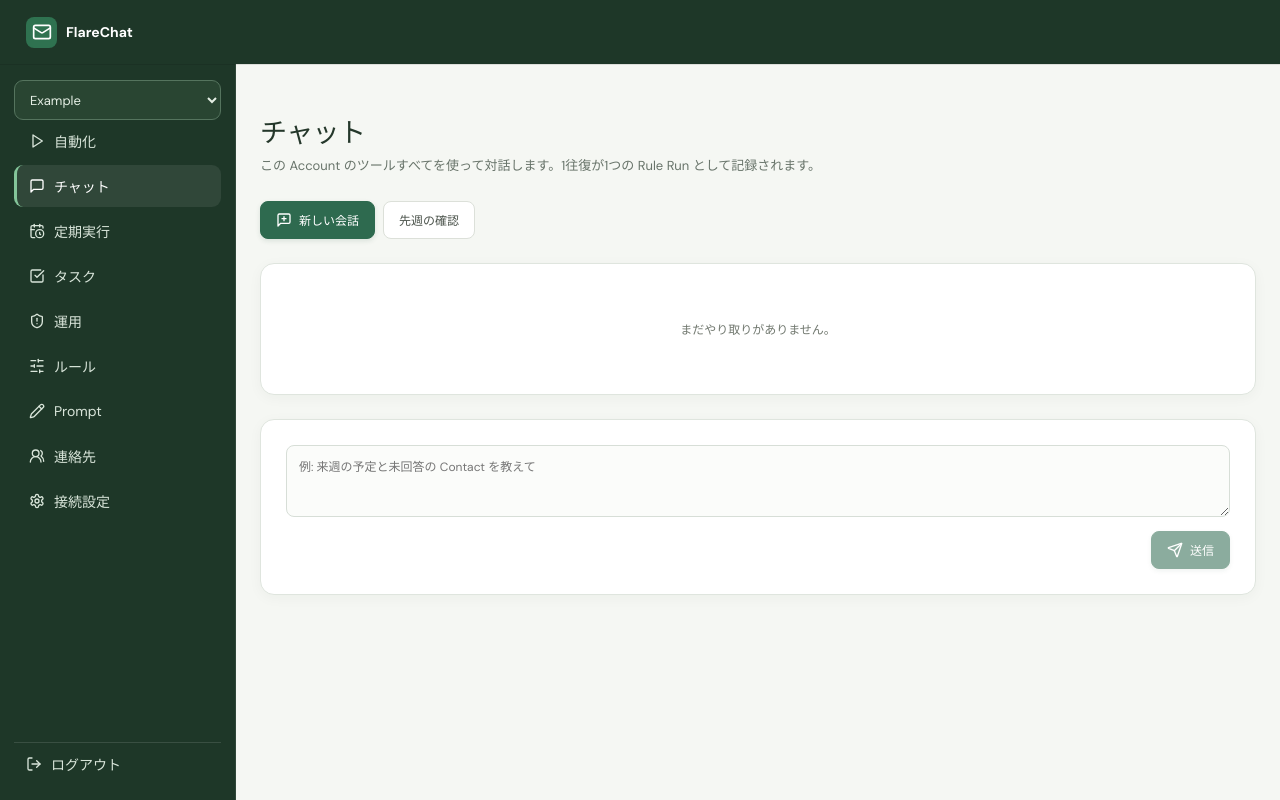
Scenario: Chat screen › opens an earlier conversation and continues it
Step 1. Click the button "先週の確認" → (429, 220), box x1=383 y1=200 x2=475 y2=238
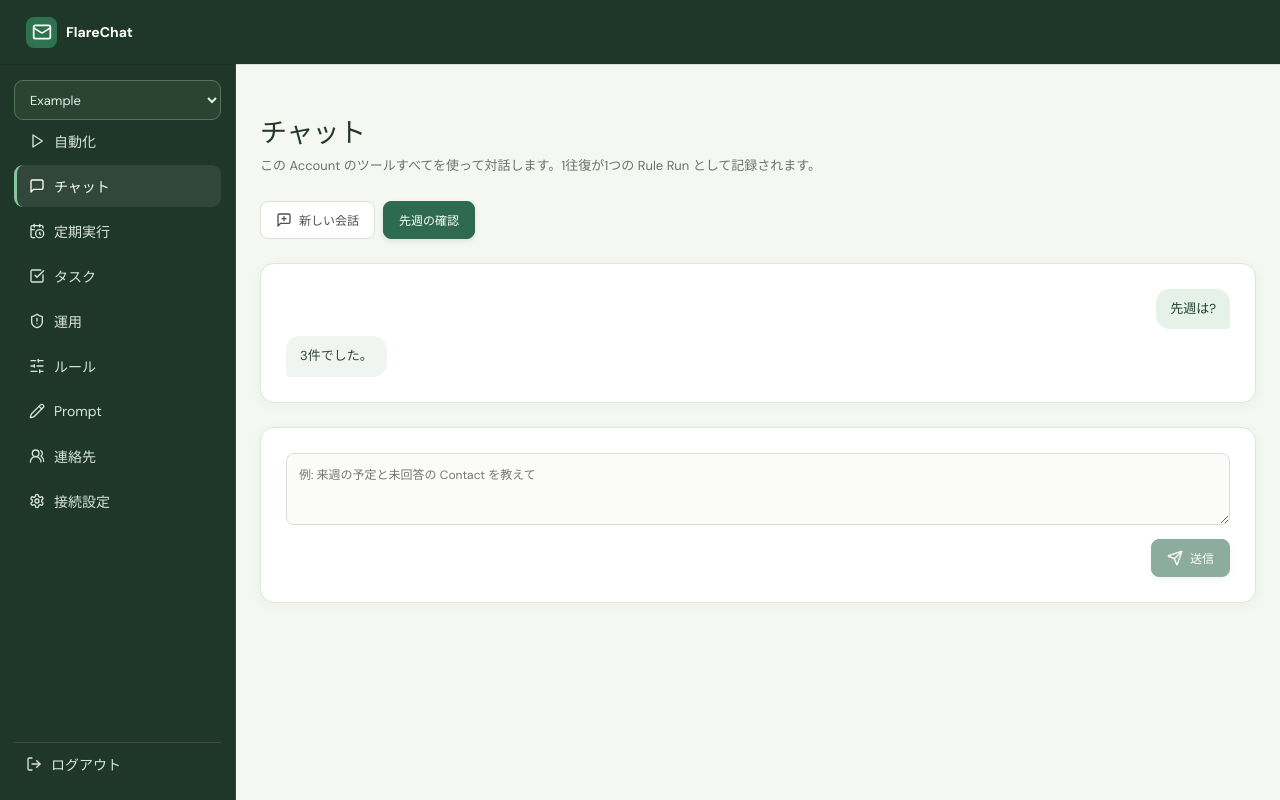
Expected: the text "3件でした。" is shown, x1=286 y1=336 x2=387 y2=377
